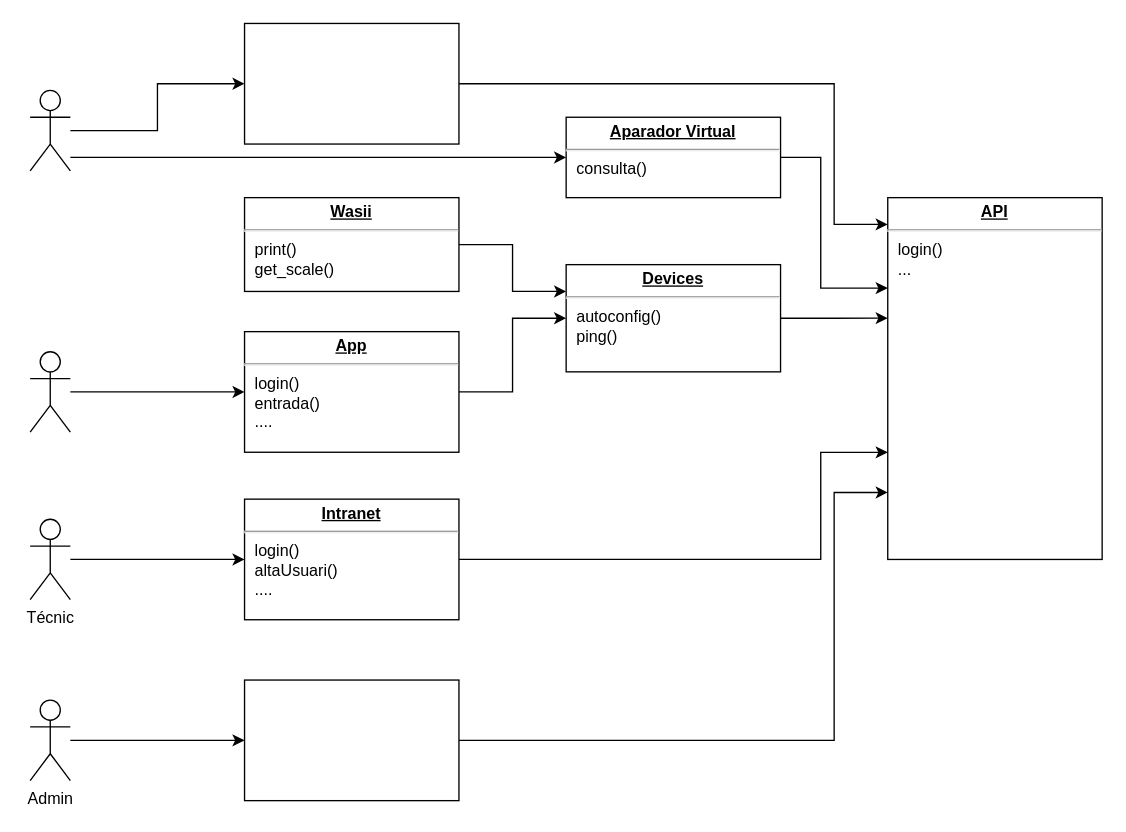
Some shapes in this 1126 by 832 pixel diagram are drawn without their labels. Each missing label, with the centre of its shape:
Ciutadà: [49,130]
Espai Ciutadà consulta() abonaments() ....: [351,83]
Operari: [49,391]
SysAdmim login() altaUsuari() ....: [351,740]
